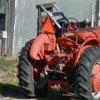Tractor: (13, 3, 100, 100)
